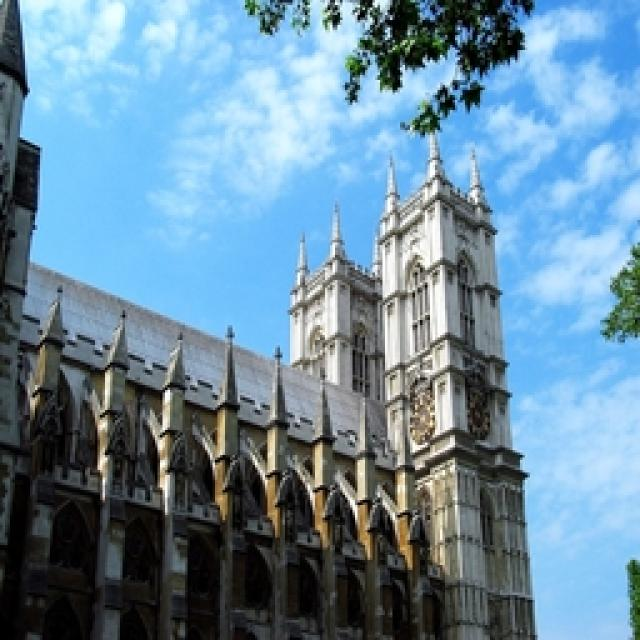Abbey: (281, 139, 551, 634)
